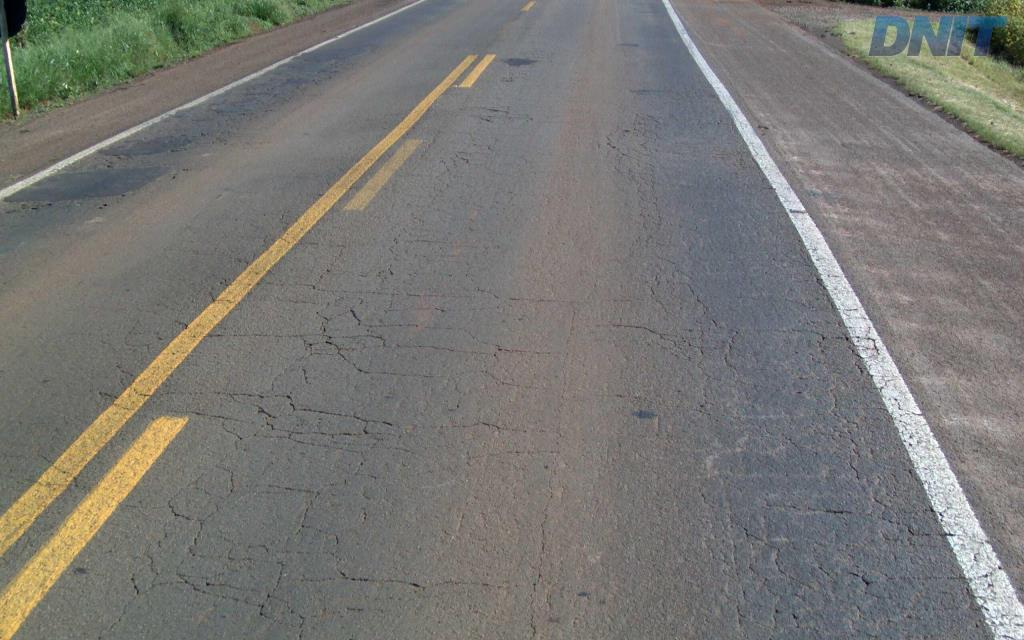crack: (271, 382, 388, 448), (295, 499, 355, 565), (612, 324, 730, 357), (216, 527, 258, 575)
